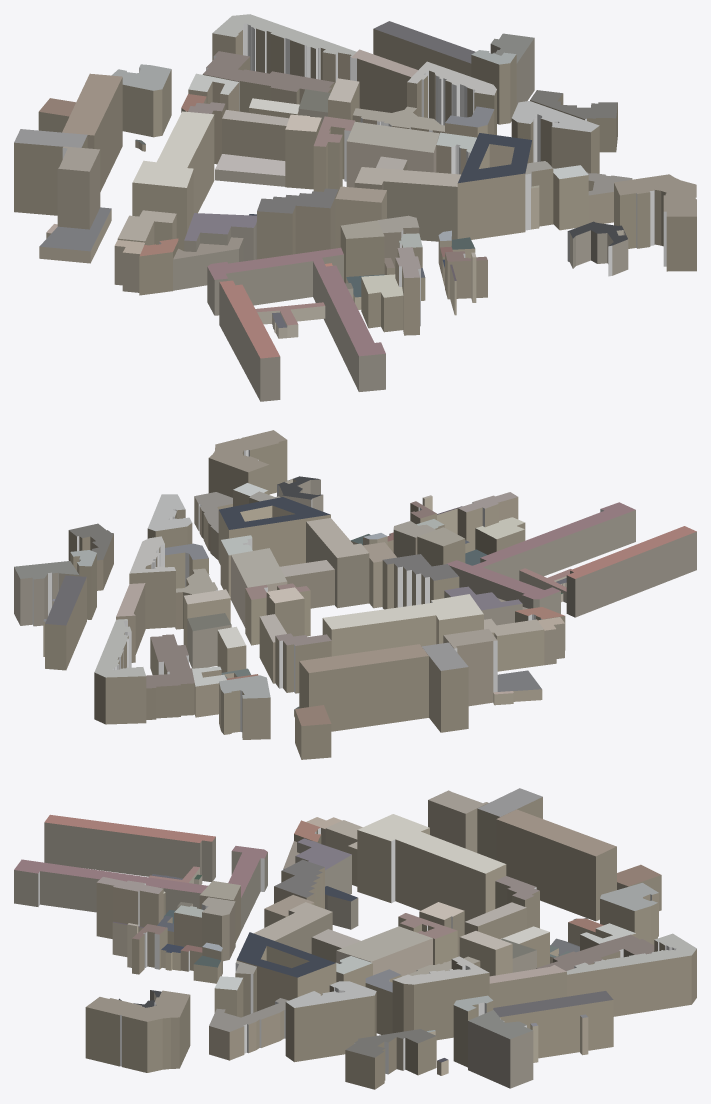
3 views of the same model, one above another, from view 1: azimuth 30°, elevation 25°; view 2: azimuth 150°, elevation 25°; view 3: azimuth 270°, elevation 25° (orthographic). The views are drawn at different scales.
Parts seen in each view (by area): view 1: tuile; view 2: tuile; view 3: tuile.
Part boxes in pixels (x1,y1,x2,y2): tuile: (14, 14, 696, 401); tuile: (14, 430, 696, 759); tuile: (14, 788, 696, 1089).
Bounding box in the file's own units: 279 × 36.73 × 318.
